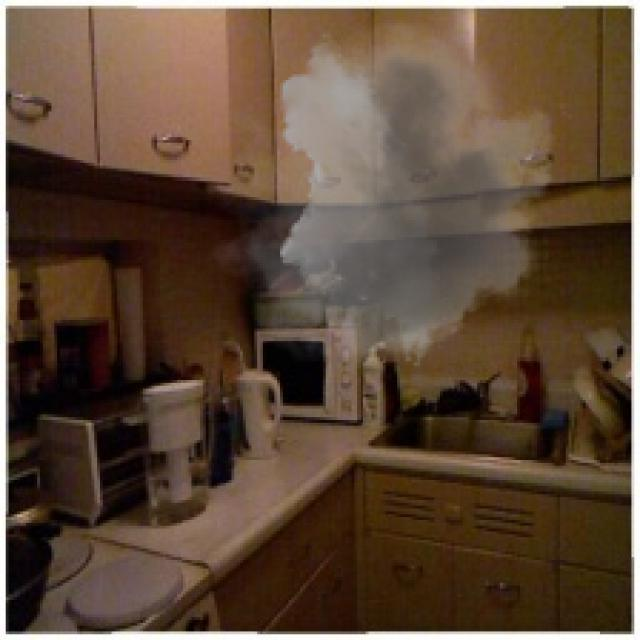Smoke: (206, 20, 572, 380)
